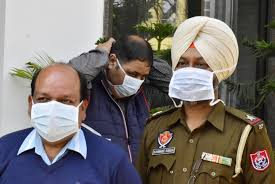mask: (29, 67, 81, 141), (171, 41, 217, 101), (114, 53, 150, 97)
